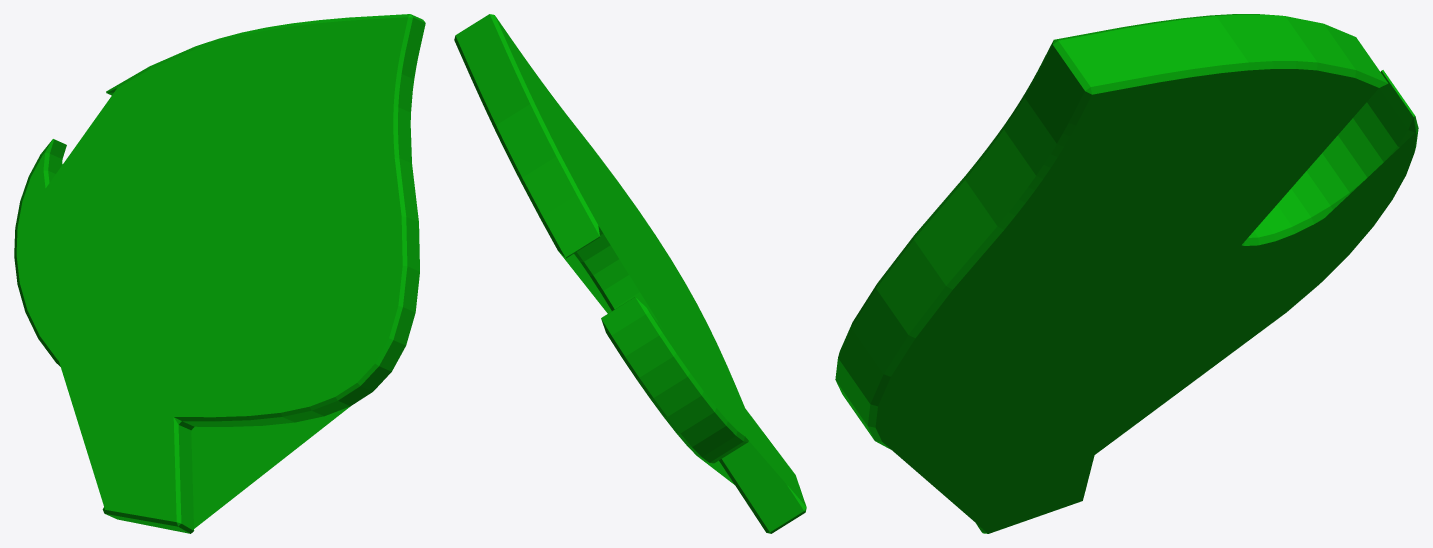
The model's file is Tree_Orb.fbx.
3 views of the same model, side by side, from view 1: azimuth 30°, elevation 25°; view 2: azimuth 150°, elevation 25°; view 3: azimuth 270°, elevation 25° (orthographic). The views are drawn at different scales.
Visible parts, largest first — view 1: Curve.001; view 2: Curve.001; view 3: Curve.001.
Part boxes in pixels (x1,y1,x2,y2): Curve.001: (14,14,425,533); Curve.001: (454,14,806,533); Curve.001: (835,14,1418,533).
Size of the model in its own units: 89.45 by 113 by 88.66.
